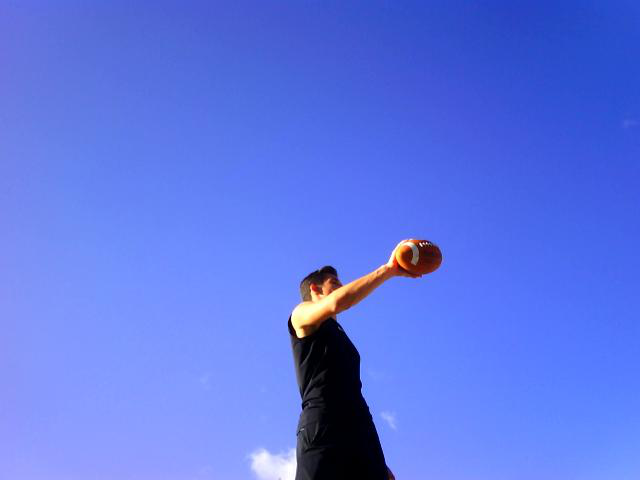football: (396, 240, 444, 275)
